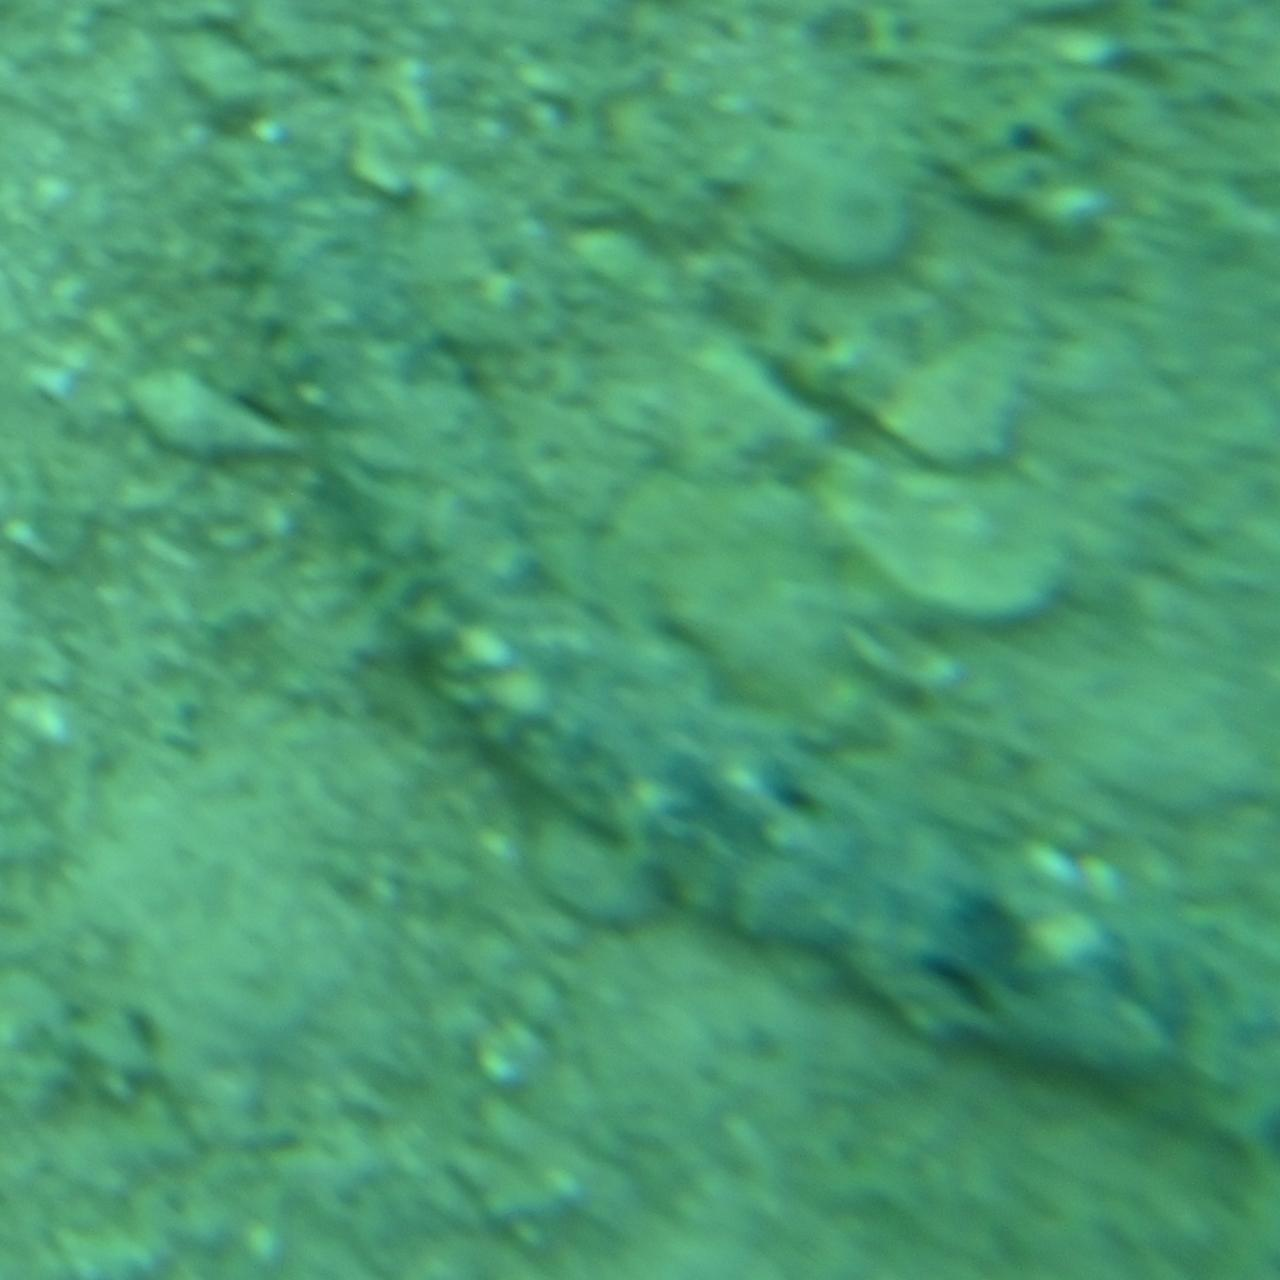Holothuria tubulosa: (203, 145, 1280, 1135)
